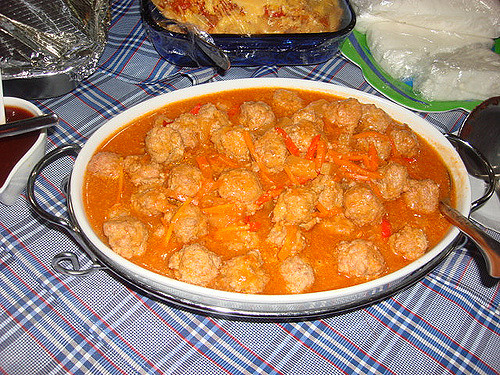meatballs: (197, 111, 352, 261)
